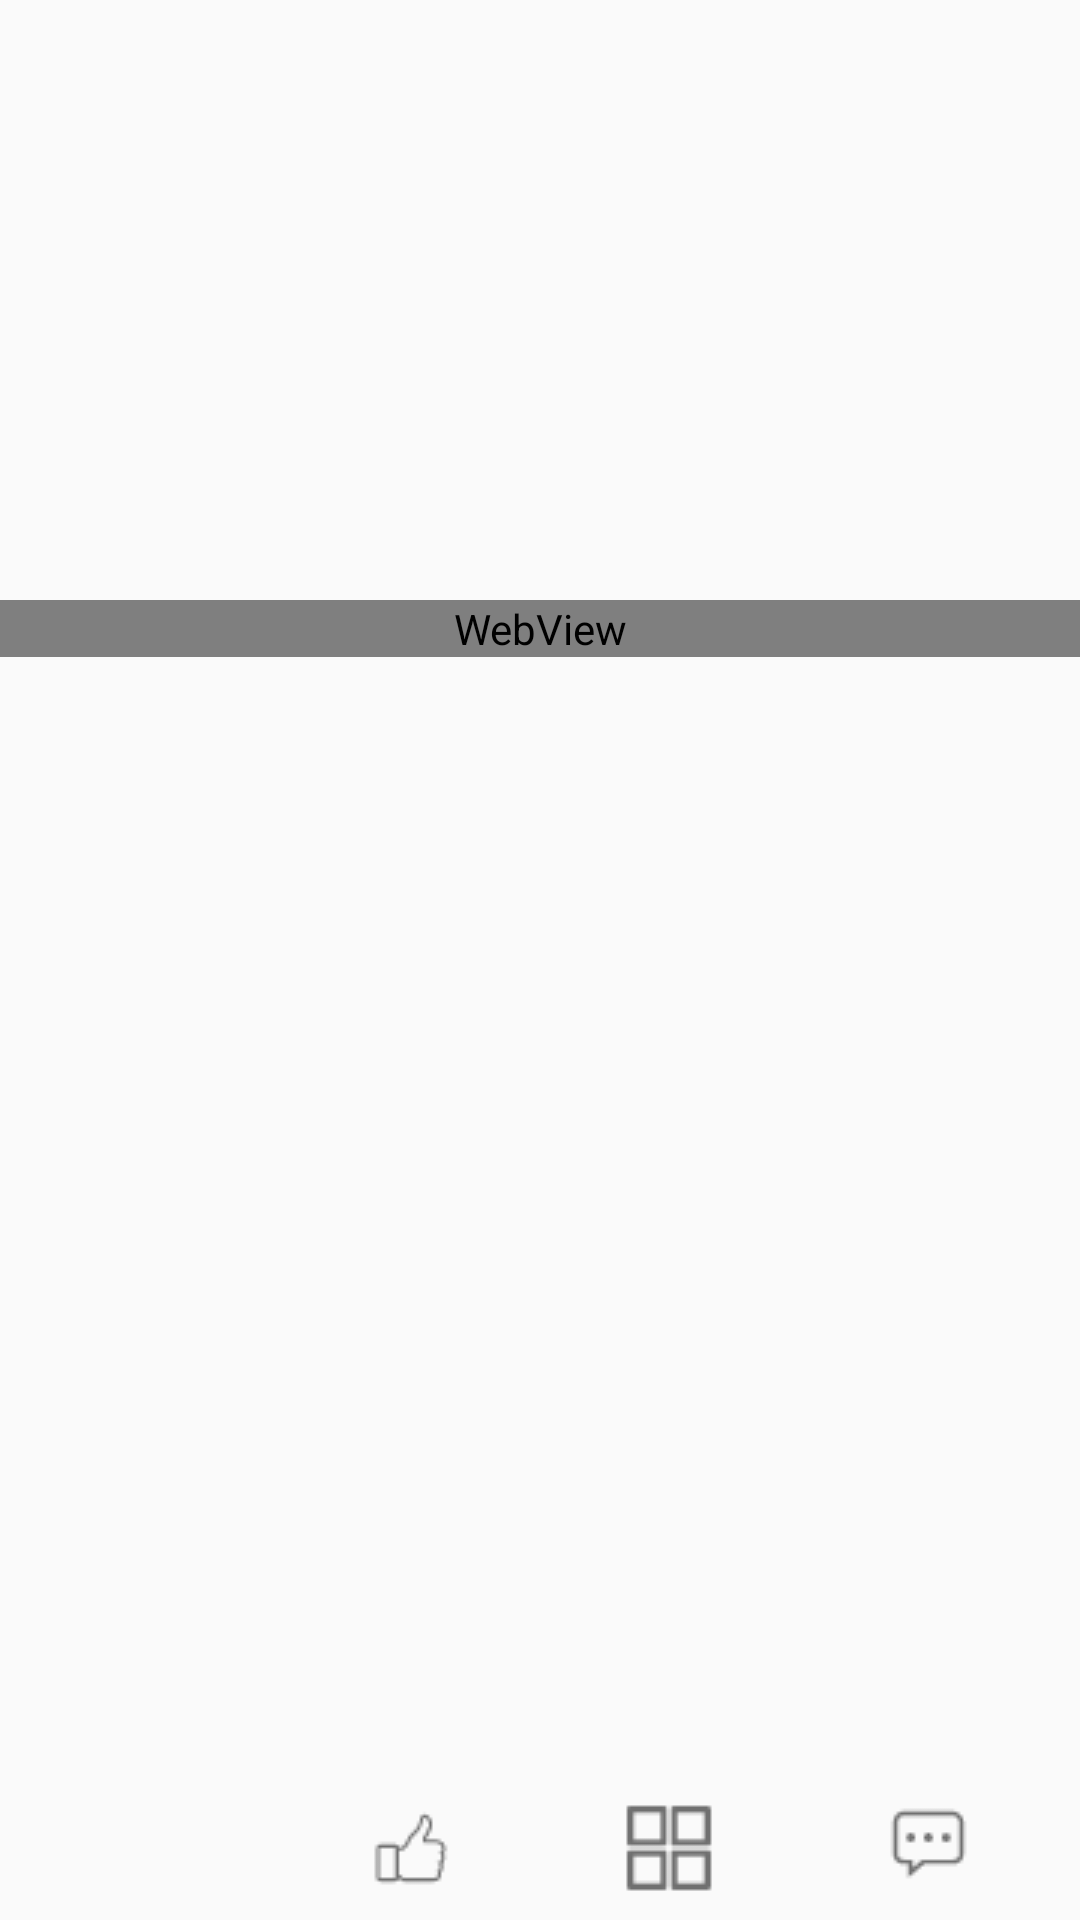

Where icons sit on this 1080x1920 app screen, as (x1, y1, x2, y2):
comment: (892, 1810, 965, 1877)
support: (375, 1814, 447, 1883)
